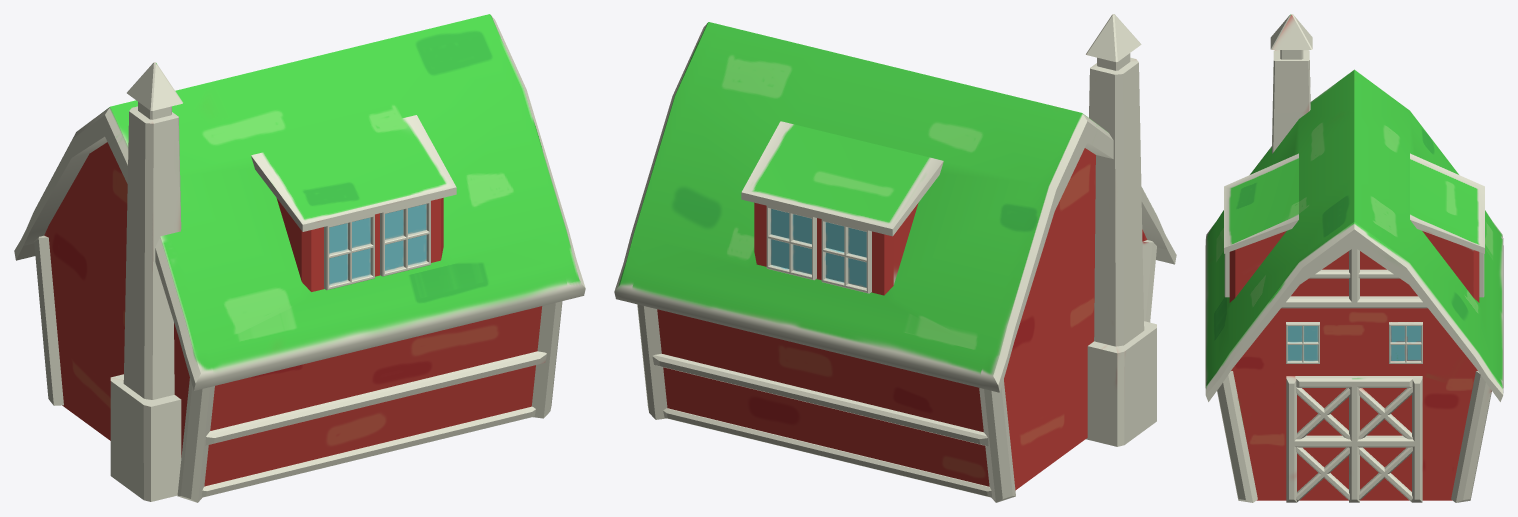
File: Barn.fbx
The picture shows the model from 3 angles, left to right: view 1: azimuth 30°, elevation 25°; view 2: azimuth 150°, elevation 25°; view 3: azimuth 270°, elevation 25°; orthographic projection. The views are drawn at different scales.
Parts seen in each view (by area): view 1: group5_pCube9; view 2: group5_pCube9; view 3: group5_pCube9.
Boxes of the visible parts, x1,y1,x2,y2 form: group5_pCube9: (14,14,585,502); group5_pCube9: (614,14,1176,502); group5_pCube9: (1205,14,1503,502).
Bounding box in the file's own units: 16.54 × 12.82 × 16.31.
